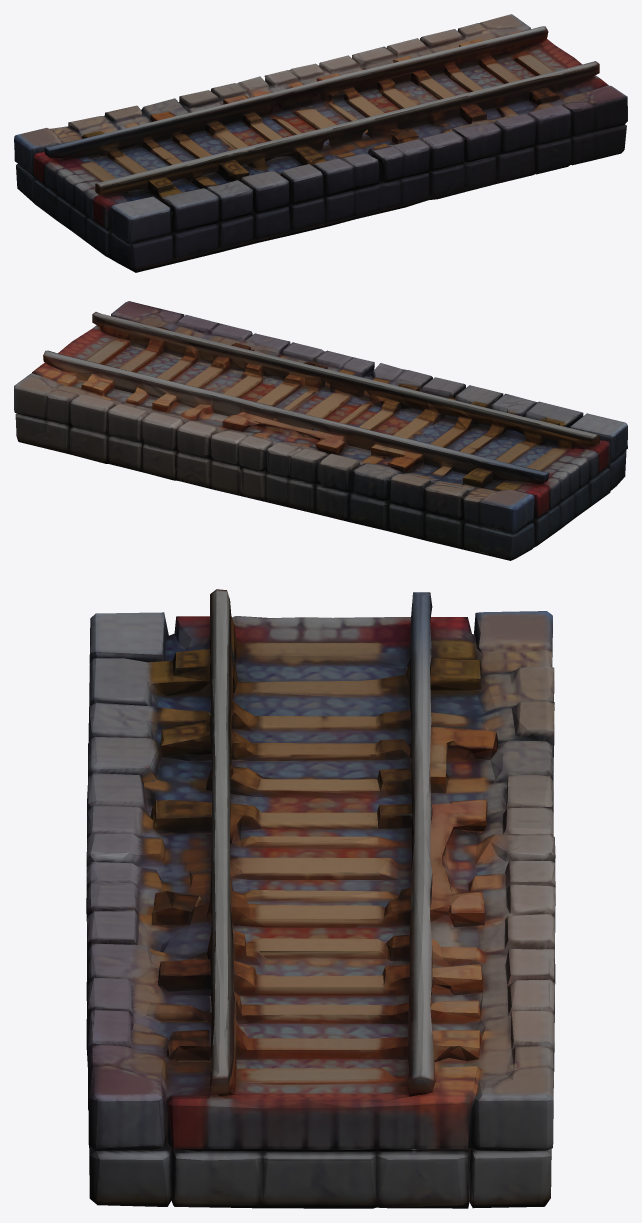
The model's file is track.glb.
The picture shows the model from 3 angles, top to bottom: view 1: azimuth 30°, elevation 25°; view 2: azimuth 150°, elevation 25°; view 3: azimuth 270°, elevation 25°; orthographic projection. The views are drawn at different scales.
Visible parts, largest first — view 1: world; view 2: world; view 3: world.
Part boxes in pixels (x1=…): world: x1=14, y1=14, x2=627, y2=272; world: x1=14, y1=301, x2=627, y2=560; world: x1=86, y1=589, x2=555, y2=1208.
Bounding box in the file's own units: 0.9999 × 0.1291 × 0.4033.
Materials: 1 (1 with a texture image).
